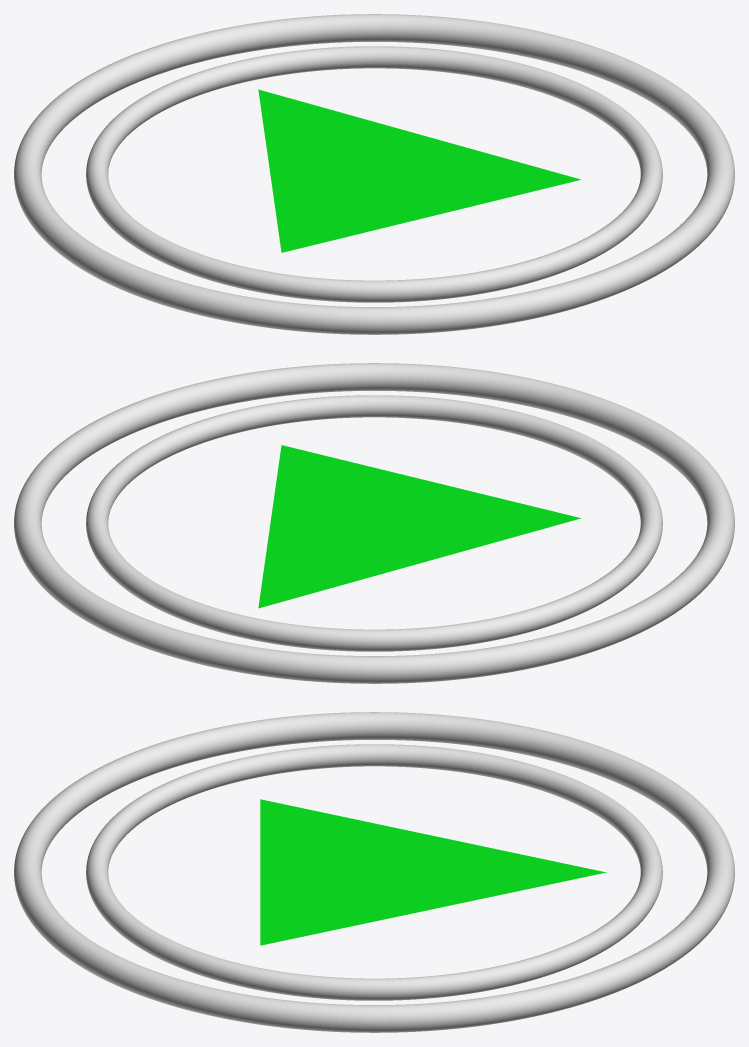
File: playbutton.fbx
3 views of the same model, one above another, from view 1: azimuth 30°, elevation 25°; view 2: azimuth 150°, elevation 25°; view 3: azimuth 270°, elevation 25° (orthographic).
Parts seen in each view (by area): view 1: Torus, Torus.001, Plane; view 2: Torus, Torus.001, Plane; view 3: Torus, Torus.001, Plane.
Part boxes in pixels (x1,y1,x2,y2): Torus: (14,14,734,334); Torus.001: (86,46,662,302); Plane: (258,89,580,252); Torus: (14,363,734,683); Torus.001: (86,395,662,651); Plane: (258,445,580,608); Torus: (14,712,734,1032); Torus.001: (86,744,662,1000); Plane: (260,799,606,945).
Size of the model in its own units: 208 by 8 by 208.
